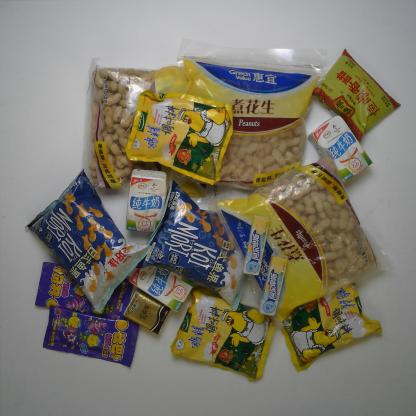Candy: (42, 303, 140, 369), (33, 261, 133, 319), (258, 254, 288, 319), (242, 213, 271, 278)
Dried Food: (207, 143, 398, 342), (176, 37, 330, 191), (80, 56, 223, 200)
Milk: (307, 113, 373, 186), (128, 265, 195, 314), (124, 167, 169, 234)
Puffed Food: (23, 168, 154, 315), (135, 178, 247, 313)
Seasoner: (124, 88, 236, 188), (169, 284, 277, 383), (278, 280, 384, 374), (311, 46, 402, 144)
Tissue: (122, 287, 172, 336)
